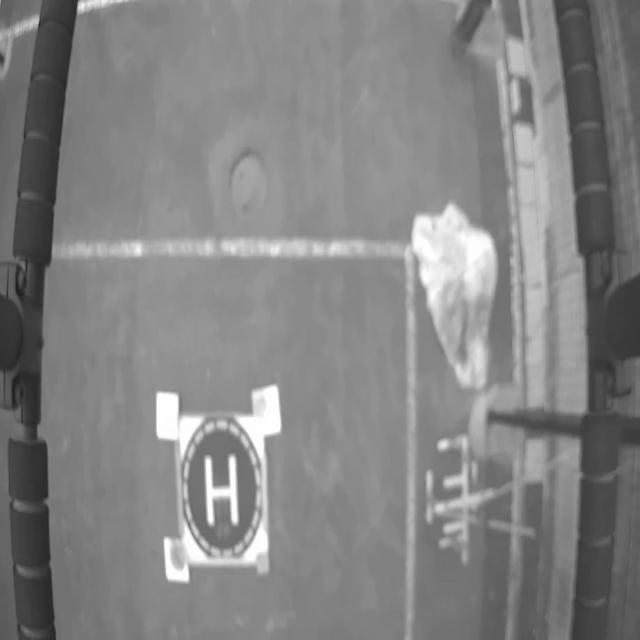Helipad: (204, 453, 238, 527)
